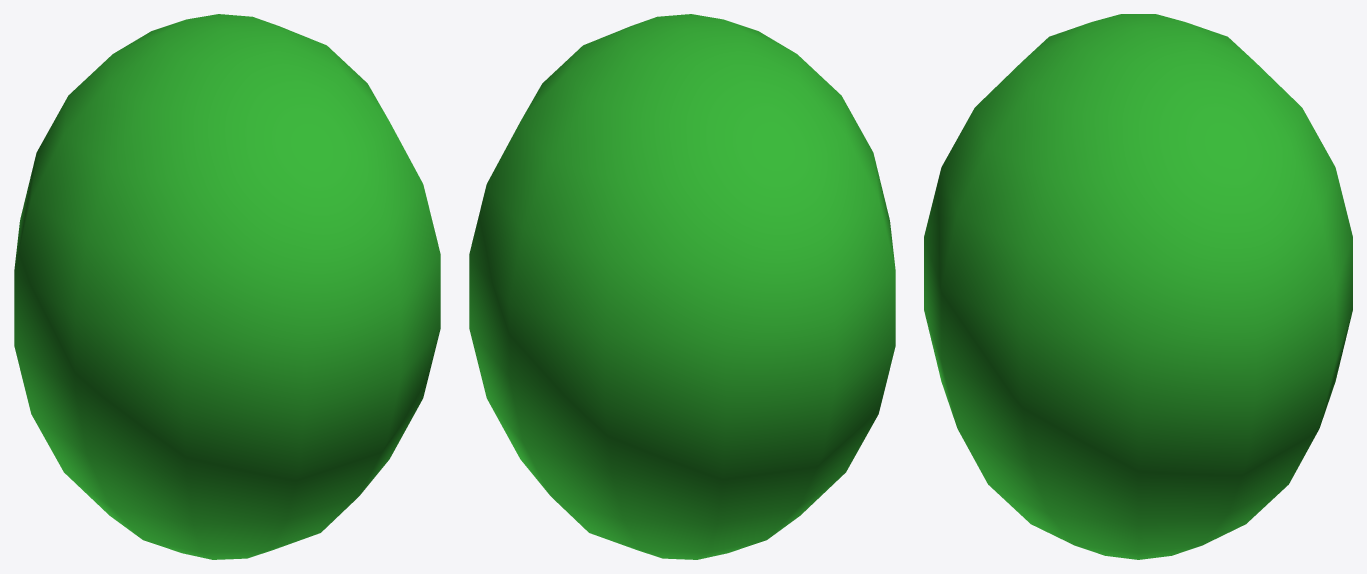
File: musgalte_stage3.obj
3 views of the same model, side by side, from view 1: azimuth 30°, elevation 25°; view 2: azimuth 150°, elevation 25°; view 3: azimuth 270°, elevation 25° (orthographic).
Bounding box in the file's own units: 2.72 × 3.64 × 2.74.
